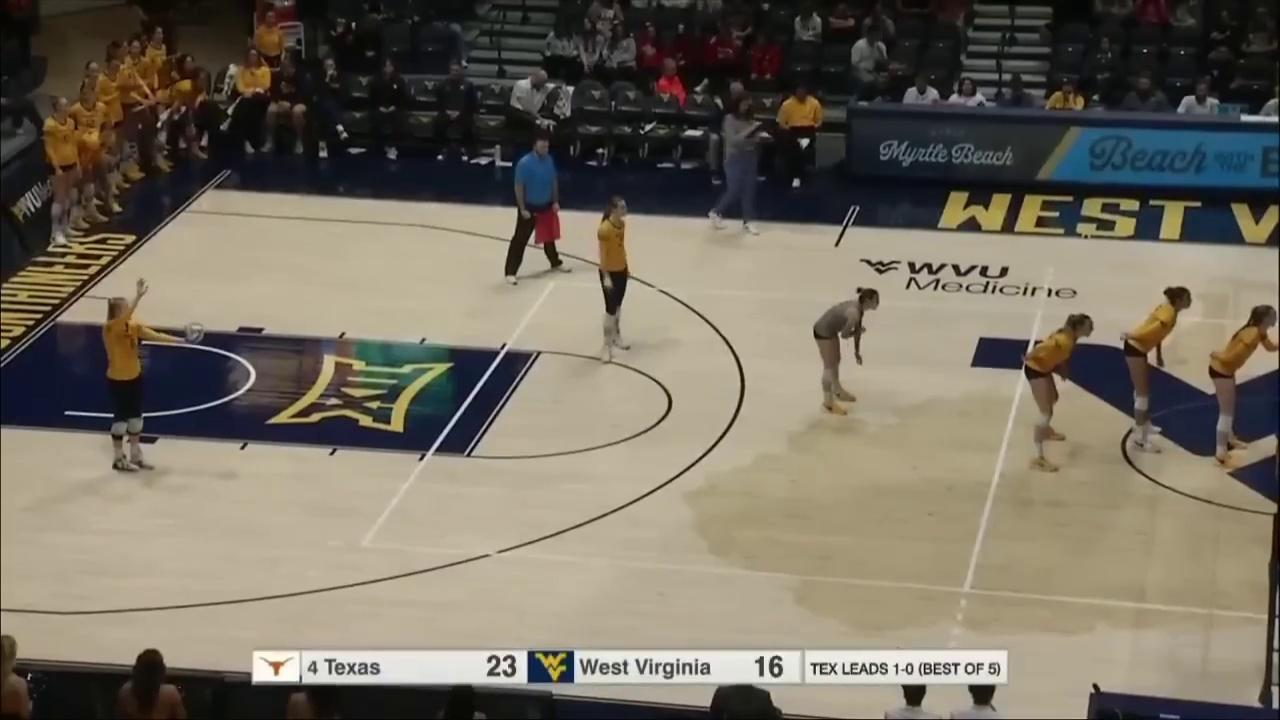player: (1119, 285, 1193, 454), (1022, 313, 1095, 475), (1209, 304, 1280, 467), (107, 293, 169, 474), (811, 285, 882, 415), (596, 196, 639, 361)
refree: (501, 139, 574, 283)
